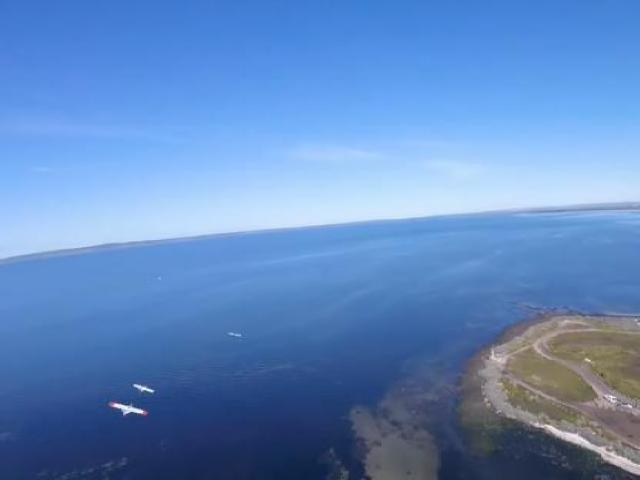uav: (106, 403, 149, 419), (133, 382, 156, 392)
